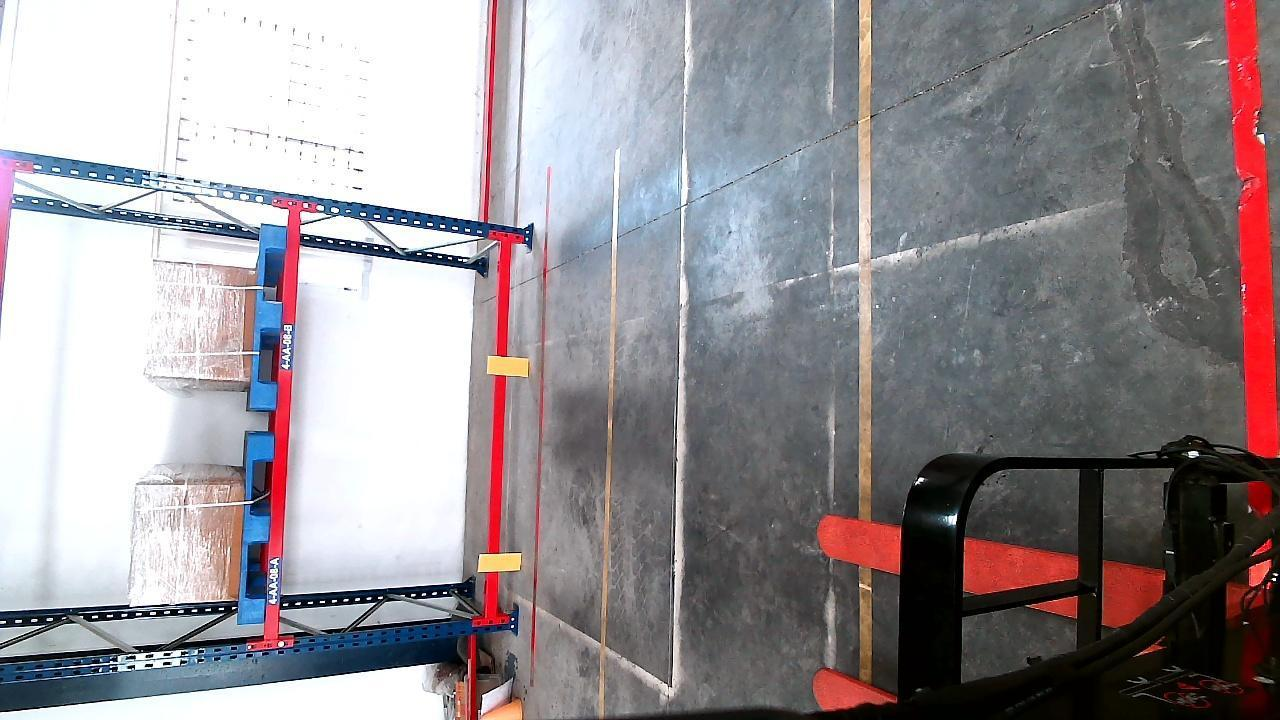h_rack: (266, 210, 302, 641), (489, 242, 510, 612)
orange_strip: (492, 353, 532, 377), (480, 551, 523, 573)
small_pallet: (254, 230, 287, 416), (240, 447, 275, 616)
yellow_line: (595, 163, 625, 720), (854, 0, 877, 685)
